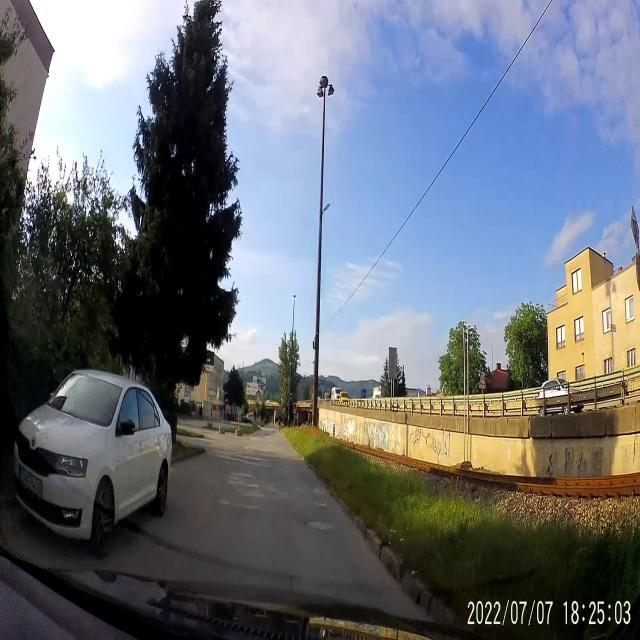Manhole: (306, 513, 336, 536)
